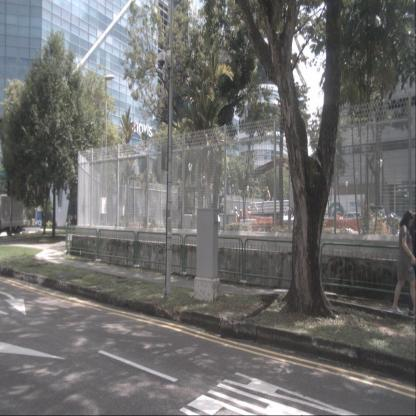human-pedestrian-adult: (391, 209, 416, 318), (408, 211, 415, 318), (74, 214, 76, 224), (68, 214, 70, 224), (71, 215, 73, 224)
vehicle-car: (366, 205, 390, 236), (336, 212, 362, 228)
vehicle-truck: (0, 190, 30, 237)
